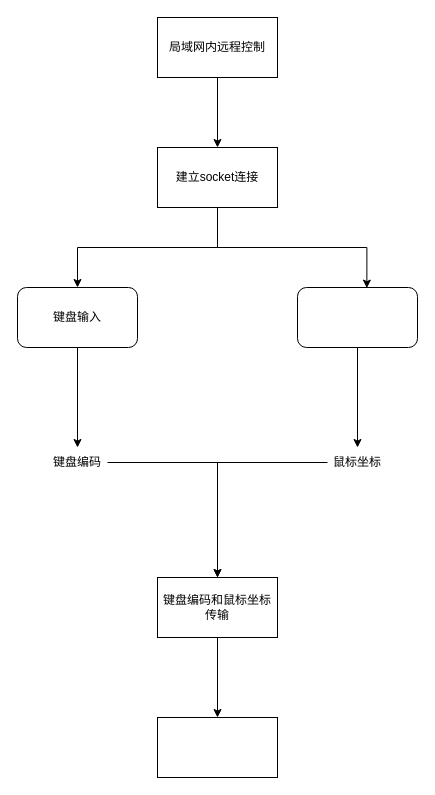
Image size: 435x795. Some labels were removed from this diagram. The shapes that lost their labels are listed below. From the top down, each one's centre as x and y in pixels, then its label:
At point (357, 317): "鼠标控制".
At point (217, 747): "传输编码图像".
